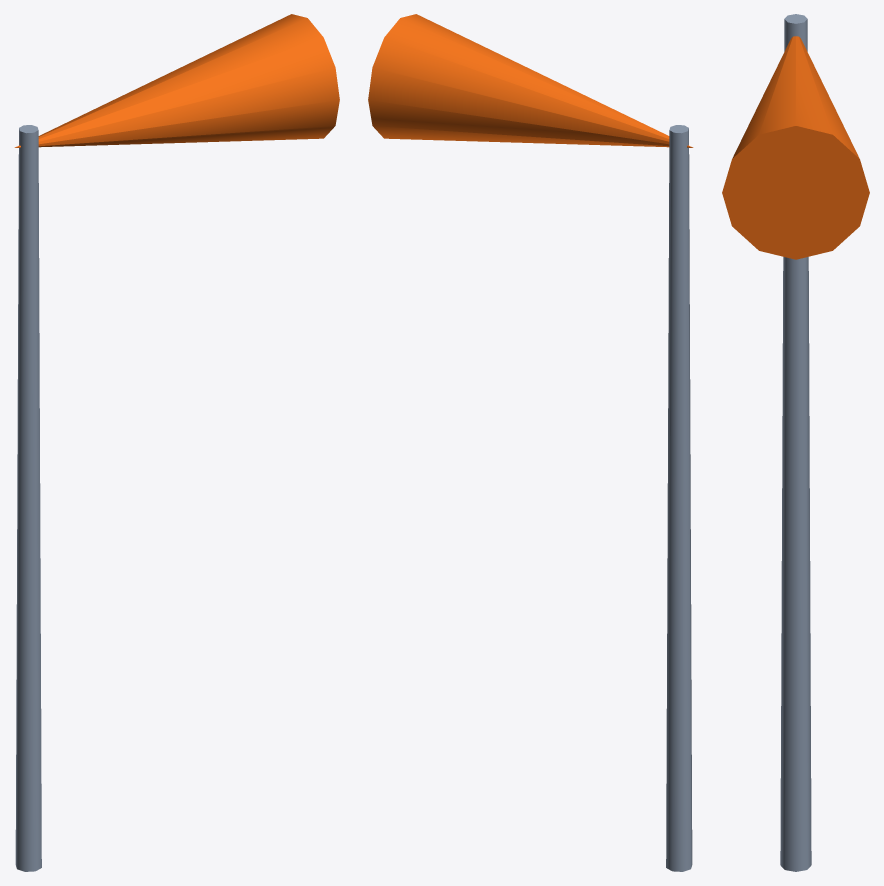
File: windsock.glb
3 views of the same model, side by side, from view 1: azimuth 30°, elevation 25°; view 2: azimuth 150°, elevation 25°; view 3: azimuth 270°, elevation 25° (orthographic). The views are drawn at different scales.
Size of the model in its own units: 2 by 5.08 by 0.76.
